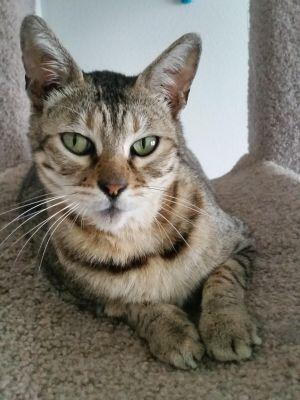bengal: (8, 4, 218, 238)
